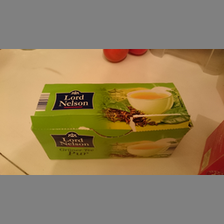tea: (30, 81, 195, 161)
